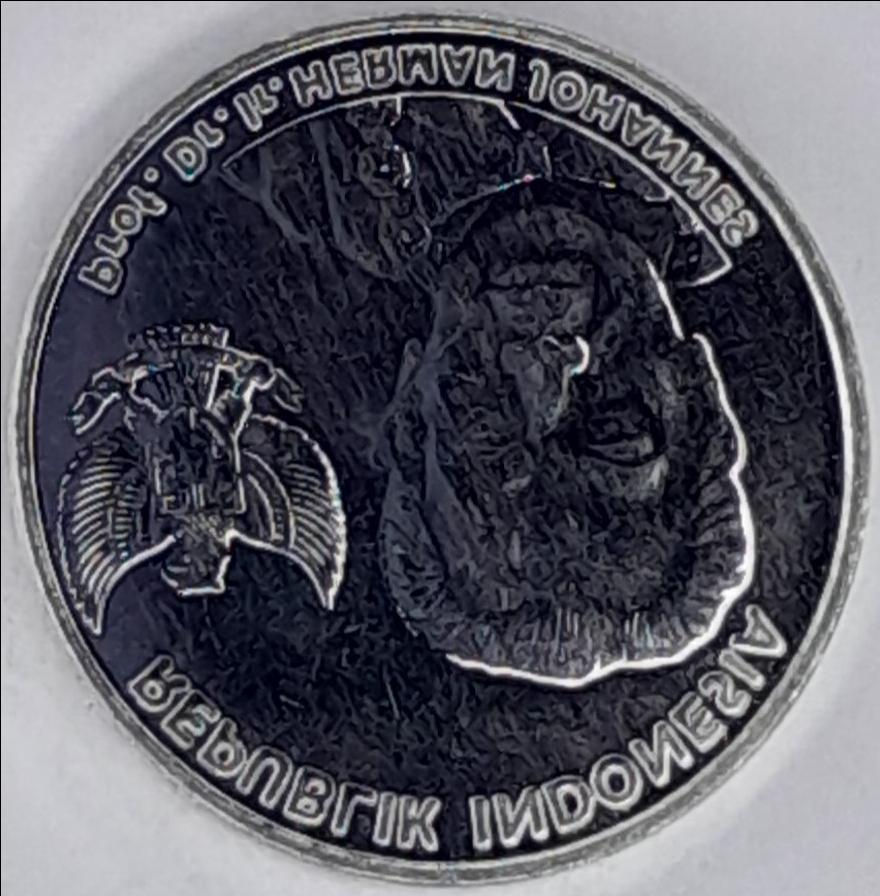coin_100_e2016: (9, 6, 875, 885)
